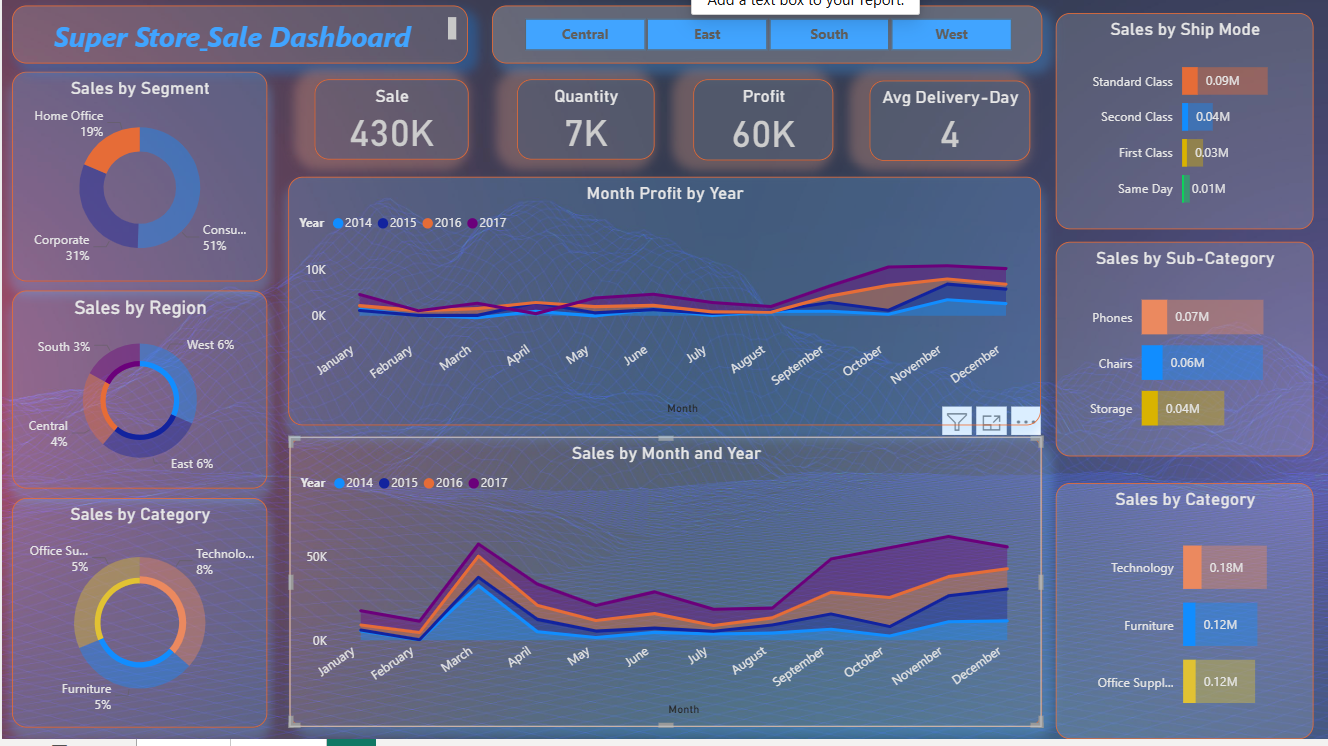

What the dashboard file says about the page in this screenshot:
{"tool":"powerbi","page":{"name":"Page 1","canvas":[1280,720],"ordinal":0},"visuals":[{"type":"clusteredBarChart","title":"Sales by Category","fields":{"Category":["Sample - Superstore.Category"],"Y":["Sum(Sample - Superstore.Sales)"]},"box":[1017.5,472.5,248.8,247.5],"z":0},{"type":"clusteredBarChart","title":"Sales by Sub-Category","fields":{"Category":["Sample - Superstore.Sub-Category"],"Y":["Sum(Sample - Superstore.Sales)"]},"box":[1017.5,240,248.8,207.5],"z":1000},{"type":"clusteredBarChart","title":"Sales by Ship Mode","fields":{"Category":["Sample - Superstore.Ship Mode"],"Y":["Sum(Sample - Superstore.Sales)"]},"box":[1017.5,18.8,248.8,208.8],"z":2000},{"type":"stackedAreaChart","title":" Sales by Month and Year","fields":{"Y":["Sum(Sample - Superstore.Sales)"],"Category":["Sample - Superstore.Order Date.Variation.Date Hierarchy.Month"],"Series":["Sample - Superstore.Order Date.Variation.Date Hierarchy.Year"]},"box":[277.5,428.8,726.2,280],"z":3000},{"type":"stackedAreaChart","title":"  Month Profit by Year","fields":{"Category":["Sample - Superstore.Order Date.Variation.Date Hierarchy.Month"],"Series":["Sample - Superstore.Order Date.Variation.Date Hierarchy.Year"],"Y":["Sum(Sample - Superstore.Profit)"]},"box":[276.2,177.5,726.2,240],"z":4000},{"type":"donutChart","title":" Sales by Segment","fields":{"Category":["Sample - Superstore.Segment"],"Y":["Sum(Sample - Superstore.Sales)"]},"box":[10,76.2,246.2,202.5],"z":5000},{"type":"donutChart","title":" Sales by Region","fields":{"Y":["Sum(Sample - Superstore.Sales)"],"Category":["Sample - Superstore.Region"]},"box":[10,287.5,246.2,191.2],"z":6000},{"type":"slicer","fields":{"Values":["Sample - Superstore.Region"]},"box":[472.5,12.5,531.2,56.2],"z":7000},{"type":"textbox","box":[10,12.5,440,56.2],"z":8000},{"type":"card","title":"Sale","fields":{"Values":["Sum(Sample - Superstore.Sales)"]},"box":[301.2,83.8,148.8,77.5],"z":9000},{"type":"card","title":"Quantity","fields":{"Values":["Sum(Sample - Superstore.Quantity)"]},"box":[497.5,83.8,132.5,77.5],"z":10000},{"type":"card","title":"Profit","fields":{"Values":["Sum(Sample - Superstore.Profit)"]},"box":[667.5,83.8,135,78.8],"z":11000},{"type":"card","title":"Avg Delivery-Day","fields":{"Values":["Avg(Sample - Superstore.AvgDelivery)"]},"box":[837.5,85,155,77.5],"z":12000},{"type":"donutChart","title":" Sales by Category","fields":{"Y":["Sum(Sample - Superstore.Sales)"],"Category":["Sample - Superstore.Category","Sample - Superstore.Region"]},"box":[10,487.5,246.2,221.2],"z":13000}]}

Visuals, with their boxes on the page's 1280x720 design canvas (x1, y1, x2, y2). These are canvas units, not pixel positions in the 1328x746 screenshot, which may show the page scaled, cropped or inside an application window:
"Sales by Category" clusteredBarChart: 1018 472 1266 720
"Sales by Sub-Category" clusteredBarChart: 1018 240 1266 448
"Sales by Ship Mode" clusteredBarChart: 1018 19 1266 228
" Sales by Month and Year" stackedAreaChart: 278 429 1004 709
"  Month Profit by Year" stackedAreaChart: 276 178 1002 418
" Sales by Segment" donutChart: 10 76 256 279
" Sales by Region" donutChart: 10 288 256 479
slicer - Sample - Superstore.Region: 472 12 1004 69
textbox: 10 12 450 69
"Sale" card: 301 84 450 161
"Quantity" card: 498 84 630 161
"Profit" card: 668 84 802 163
"Avg Delivery-Day" card: 838 85 992 162
" Sales by Category" donutChart: 10 488 256 709
